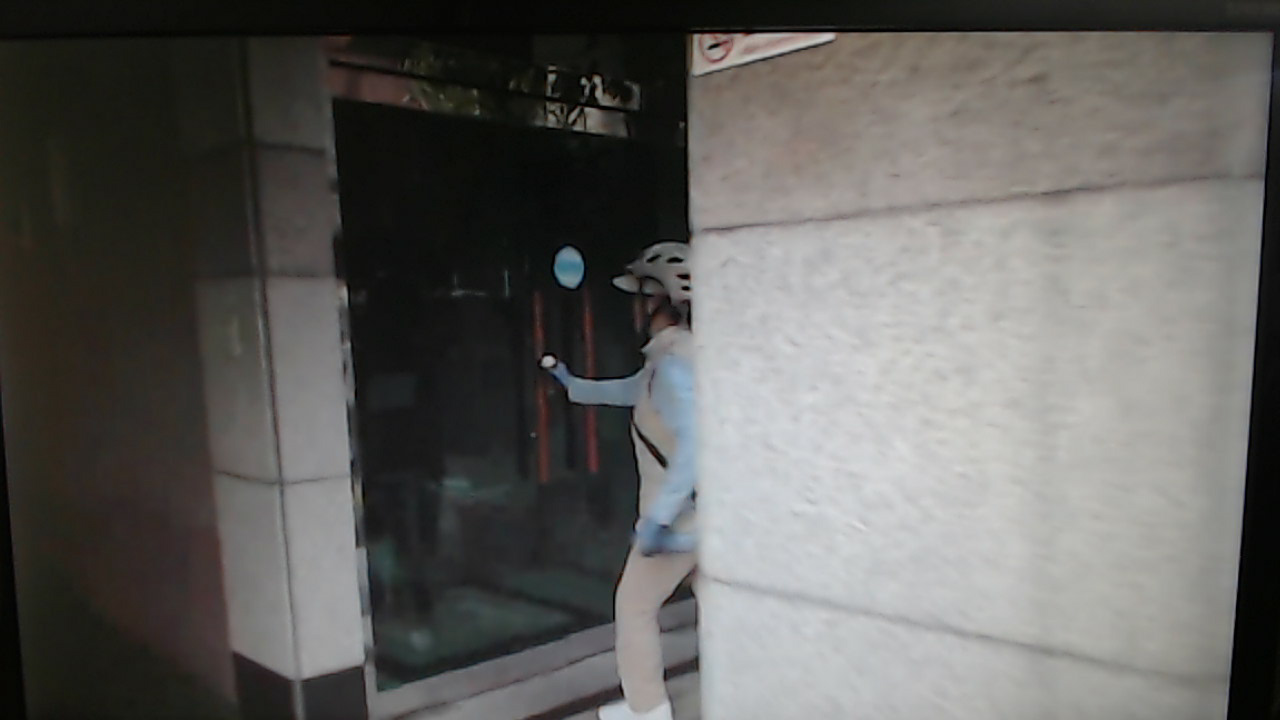Yakurut: (537, 242, 695, 720)
